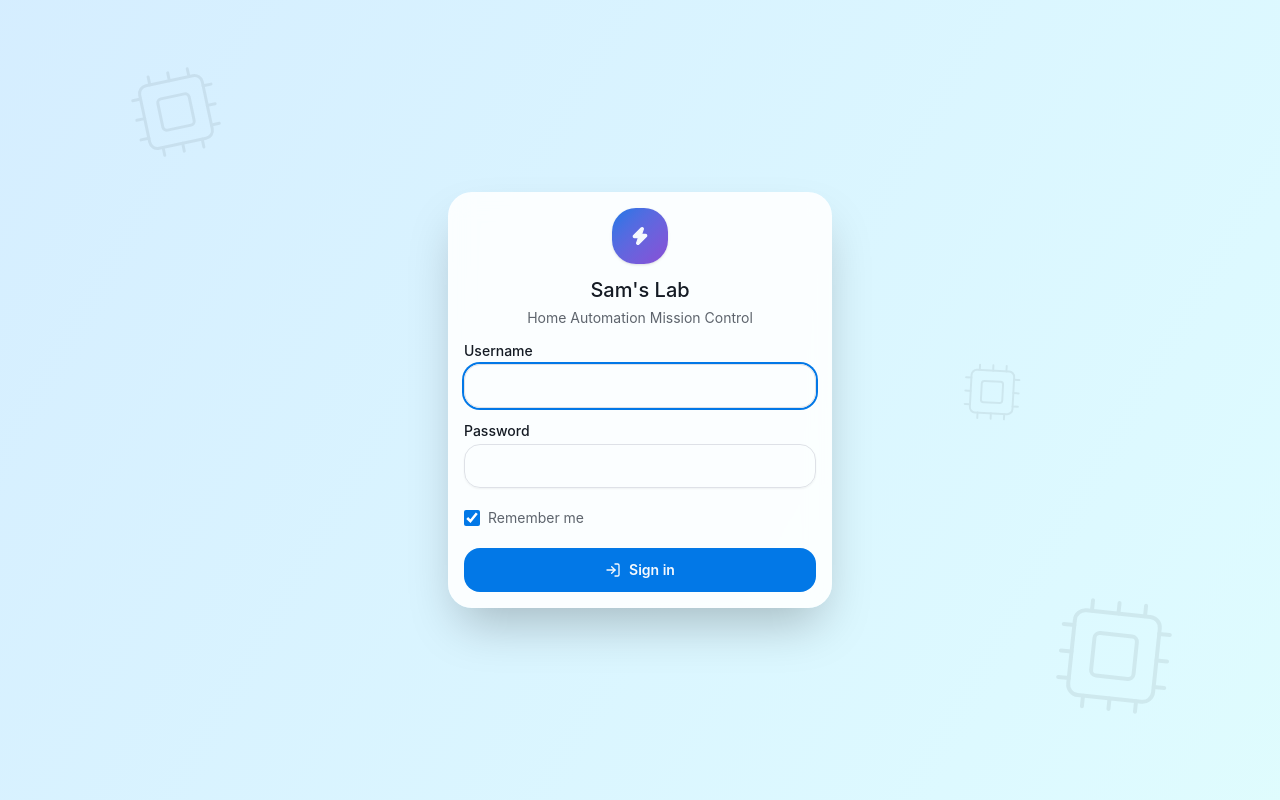
Test: LoginPage › shows an error message when login fails
Type "sam" into the field labelled "Username". click: (640, 386)
box: [464,364,816,408]
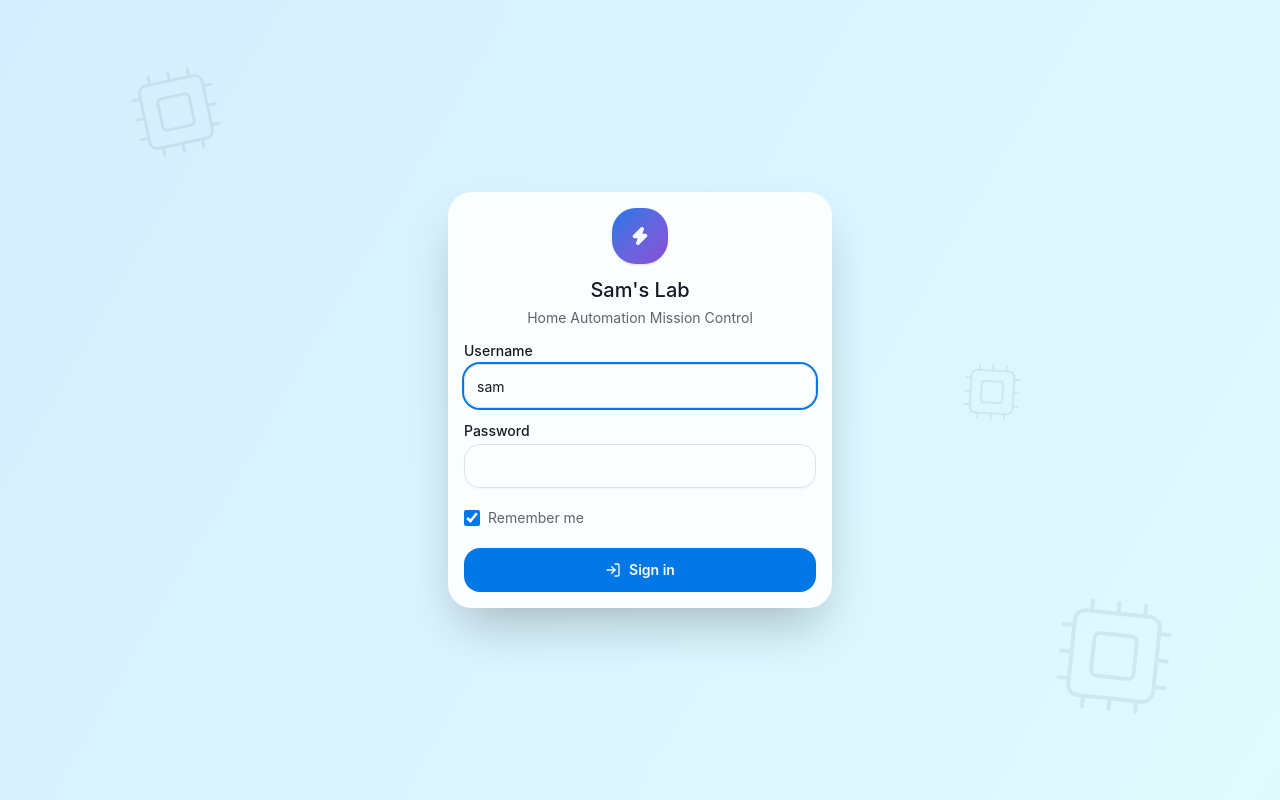
Type "wrong" into the password field labelled "Password". click: (640, 466)
box: [464,444,816,488]
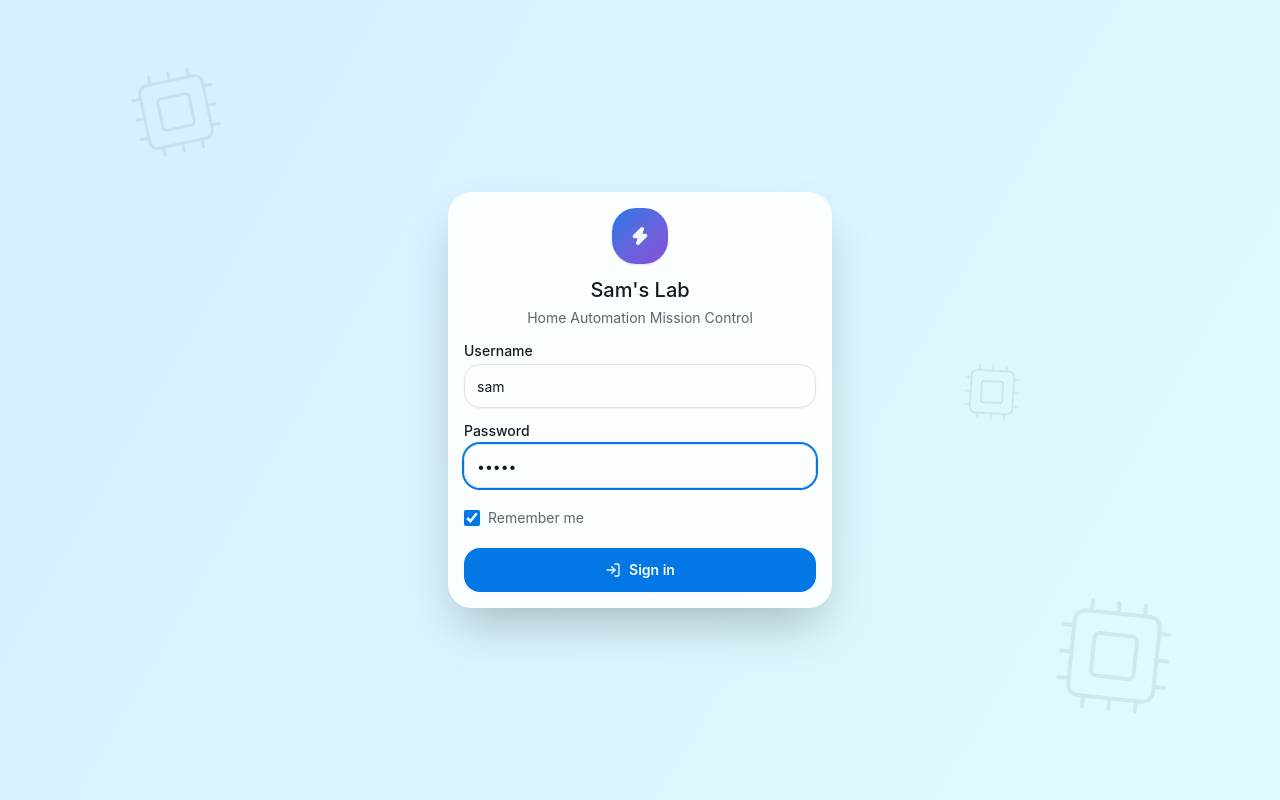
Click the button "Sign in". click: click(640, 570)
box: [464,548,816,592]
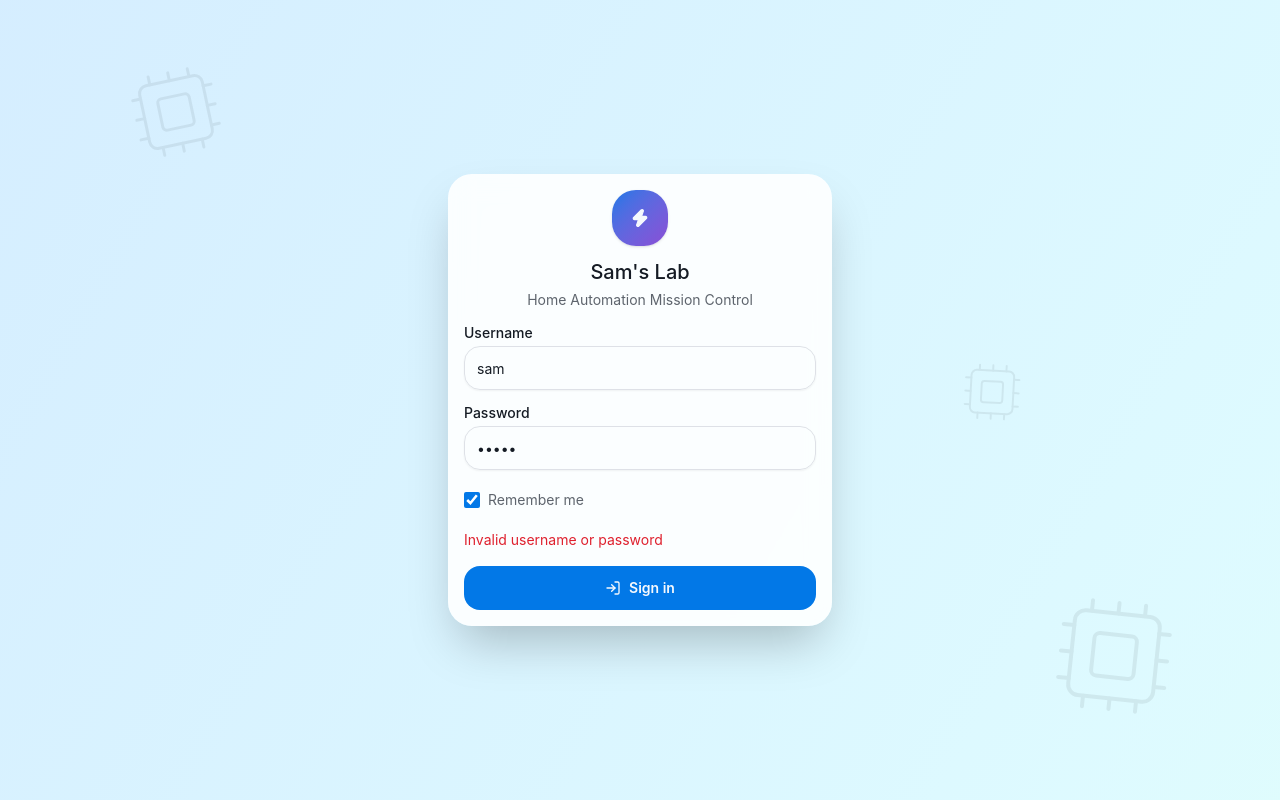
Expected: the text "Invalid username or password" is shown, [464,531,663,548]
